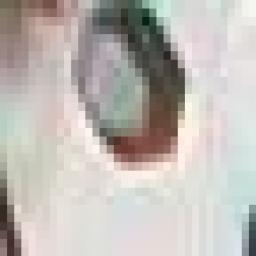crystals: (70, 0, 194, 169)
